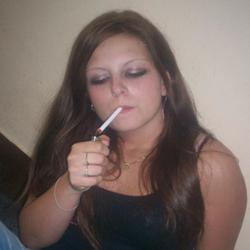cigarro: (94, 102, 130, 134)
fumador: (34, 15, 247, 239)
